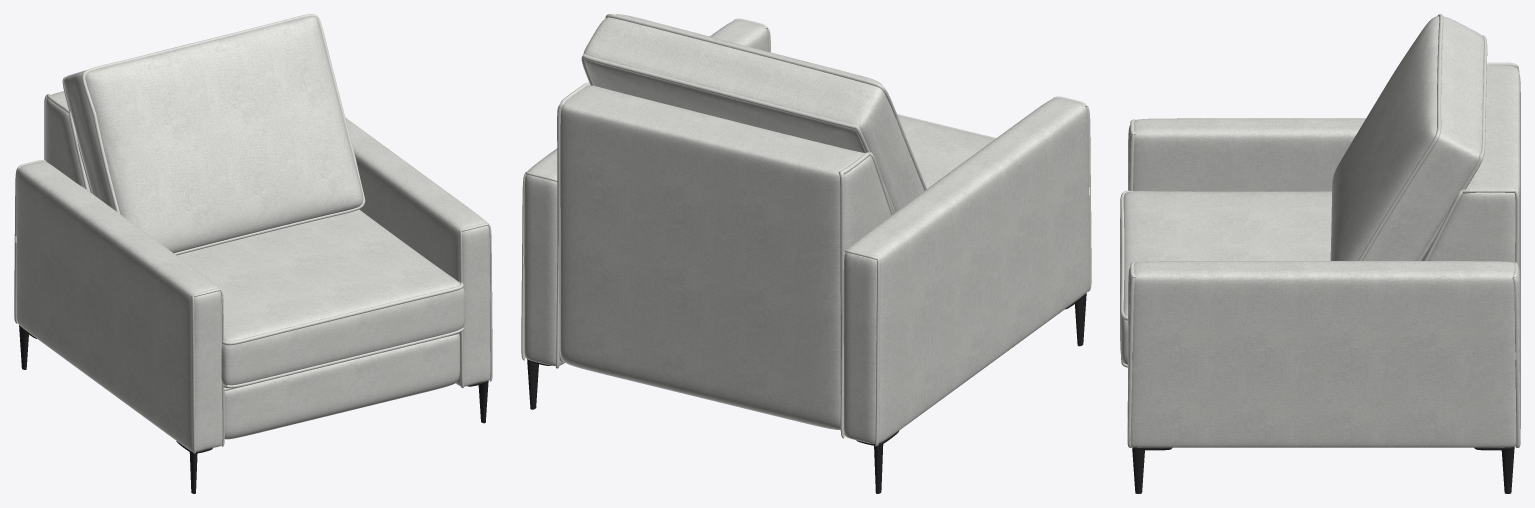
Rendered from meiple.glb.
3 views of the same model, side by side, from view 1: azimuth 30°, elevation 25°; view 2: azimuth 150°, elevation 25°; view 3: azimuth 270°, elevation 25° (orthographic). The views are drawn at different scales.
Visible parts, largest first — view 1: object 10, object 22, object 18, object 26, Braço, D=0,01 m (×5); view 2: object 26, object 22, object 10, Braço, D=0,01 m (×5), object 18; view 3: Braço, object 10, object 22, object 18, object 26, D=0,01 m (×6), Pé Stiletto (×2).
Boxes of the visible parts, x1,y1,x2,y2 form: object 10: (64, 16, 363, 253); object 22: (16, 161, 222, 451); object 18: (177, 209, 464, 385); object 26: (46, 91, 459, 439); Braço: (345, 117, 490, 386); D=0,01 m (×5): (44, 14, 463, 453); object 26: (560, 85, 891, 429); object 22: (843, 98, 1090, 443); object 10: (583, 14, 924, 211); Braço: (524, 20, 769, 365); D=0,01 m (×5): (521, 14, 926, 446); object 18: (898, 115, 994, 188); Braço: (1128, 261, 1520, 447); object 10: (1330, 16, 1483, 260); object 22: (1128, 118, 1365, 191); object 18: (1120, 191, 1331, 364); object 26: (1422, 65, 1520, 285); D=0,01 m (×6): (1120, 14, 1520, 447); Pé Stiletto (×2): (1132, 446, 1514, 493).
Size of the model in its own units: 0.89 by 0.8905 by 0.9386.
2 materials, 1 textured.
